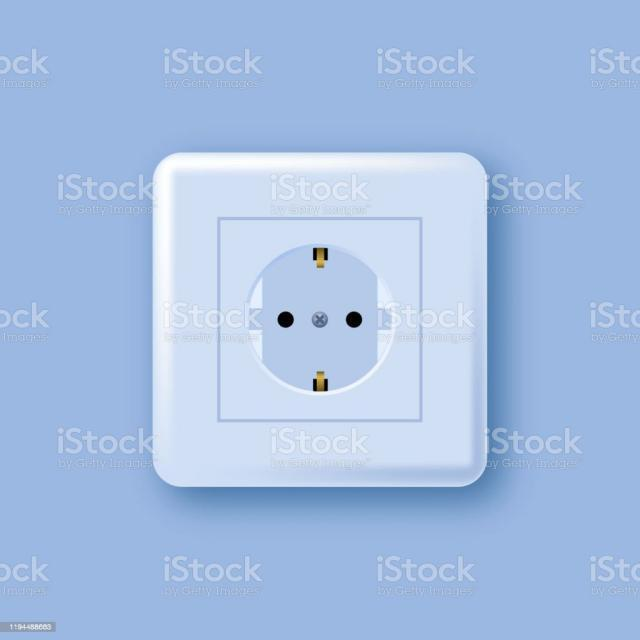typeb: (138, 132, 512, 513)
